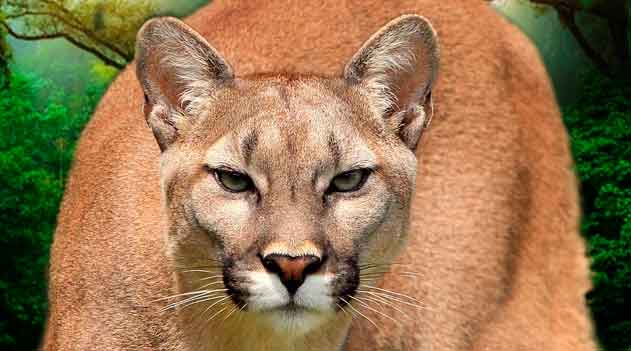OncaParda: (125, 12, 443, 330)
